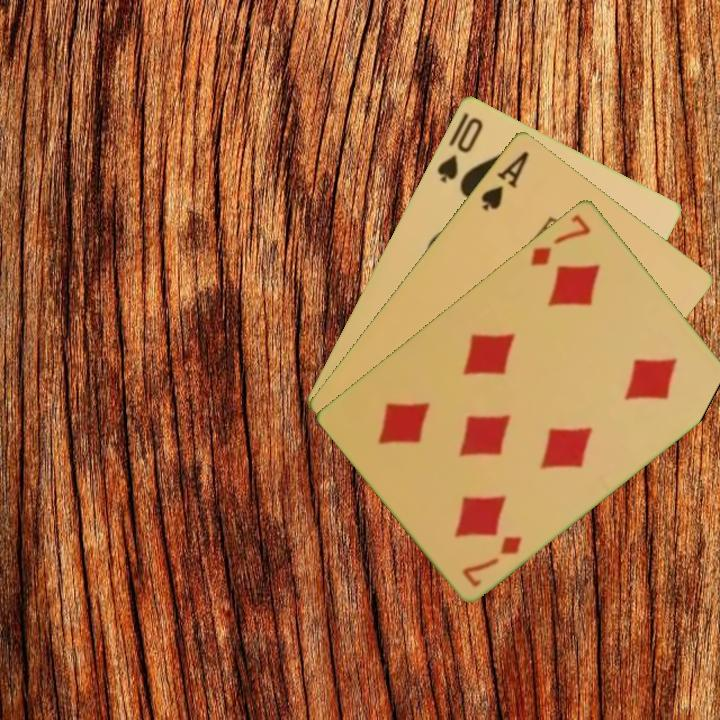10s: (433, 113, 486, 185)
7d: (526, 210, 594, 269), (458, 532, 525, 590)
As: (477, 146, 532, 213)
